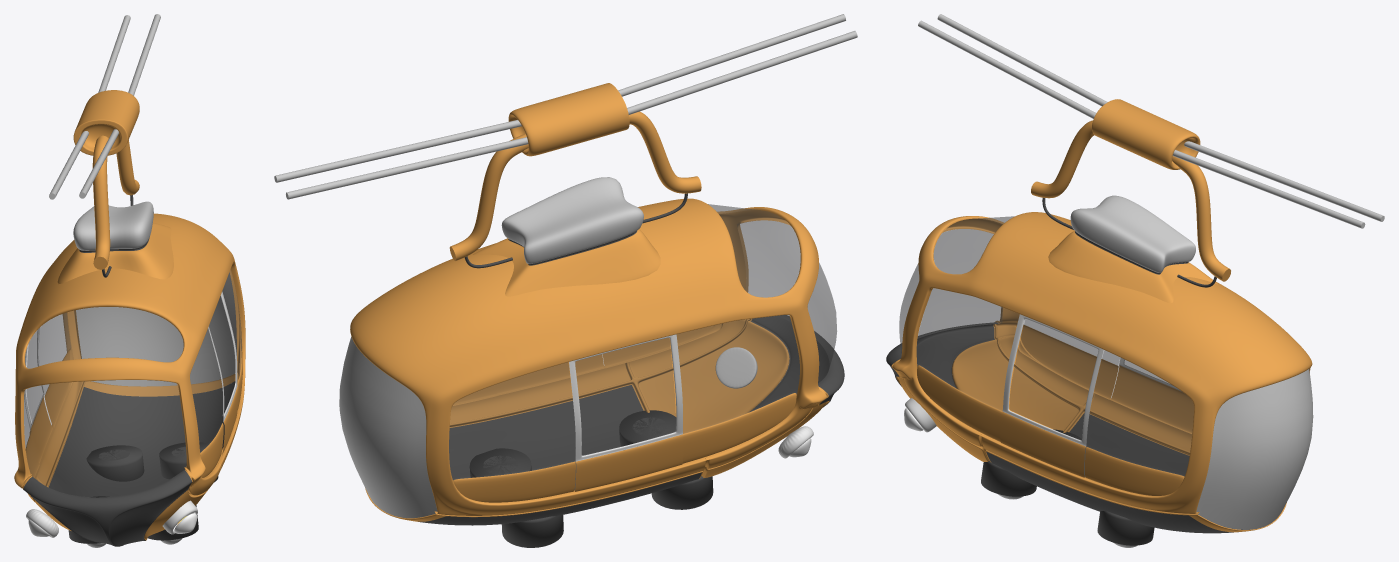
File: cable-car-3d-animated-icon-1543905544150.glb
3 renders of one model, left to right at view 1: azimuth 30°, elevation 25°; view 2: azimuth 150°, elevation 25°; view 3: azimuth 270°, elevation 25°, orthographic. The views are drawn at different scales.
Visible parts, largest first — view 1: body, glass, stand, hanger iron.006, NurbsPath.001, hanger iron.004, door, lamp, hanger iron.005; view 2: body, glass, NurbsPath.001, door, stand, hanger iron.006, hanger iron.004, hanger iron.005, lamp; view 3: body, glass, door, NurbsPath.001, hanger iron.006, hanger iron.004, stand, lamp.
Boxes of the visible parts, <box> form: body: <box>14,201,245,546</box>; glass: <box>24,269,242,496</box>; stand: <box>68,442,218,547</box>; hanger iron.006: <box>73,90,139,155</box>; NurbsPath.001: <box>49,14,160,199</box>; hanger iron.004: <box>93,135,139,264</box>; door: <box>24,291,238,463</box>; lamp: <box>26,500,197,537</box>; hanger iron.005: <box>92,135,133,277</box>; body: <box>339,177,844,525</box>; glass: <box>449,204,836,502</box>; NurbsPath.001: <box>274,14,857,199</box>; door: <box>495,334,683,491</box>; stand: <box>469,410,713,547</box>; hanger iron.006: <box>508,83,629,156</box>; hanger iron.004: <box>451,111,681,260</box>; hanger iron.005: <box>449,113,701,268</box>; lamp: <box>715,347,813,458</box>; body: <box>886,195,1313,533</box>; glass: <box>899,216,1193,495</box>; door: <box>1000,314,1194,477</box>; NurbsPath.001: <box>918,14,1384,228</box>; hanger iron.006: <box>1092,99,1200,169</box>; hanger iron.004: <box>1031,120,1229,281</box>; stand: <box>981,429,1154,547</box>; lamp: <box>904,398,936,432</box>.
Bounding box in the file's own units: 2.24 × 2.85 × 3.
